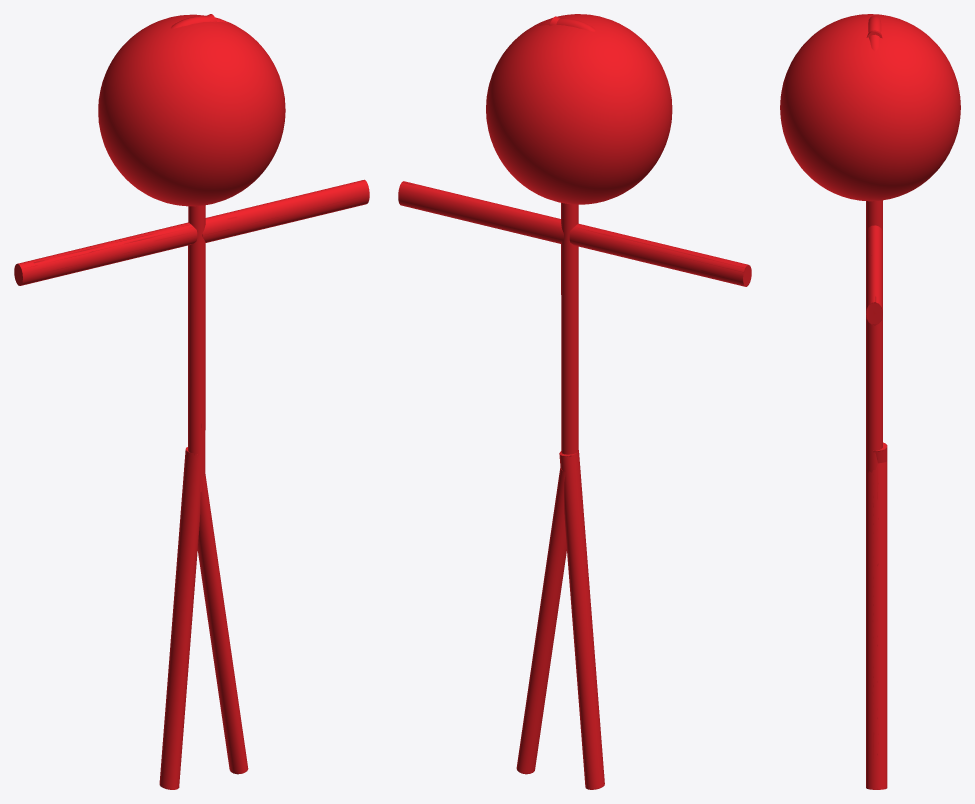
The model's file is humanoid.glb.
3 renders of one model, left to right at view 1: azimuth 30°, elevation 25°; view 2: azimuth 150°, elevation 25°; view 3: azimuth 270°, elevation 25°, orthographic. The views are drawn at different scales.
Visible parts, largest first — view 1: mesh_id50, node_id14, node_id17, node_id8, node_id11, node_id5; view 2: mesh_id50, node_id14, node_id17, node_id8, node_id11, node_id5; view 3: mesh_id50, node_id17, node_id8, node_id5, node_id20.
Part boxes in pixels (left/top/right/bottom): mesh_id50: left=98, top=14, right=285, bottom=206; node_id14: left=159, top=447, right=200, bottom=789; node_id17: left=197, top=470, right=248, bottom=774; node_id8: left=188, top=205, right=205, bottom=491; node_id11: left=14, top=222, right=197, bottom=285; node_id5: left=202, top=179, right=369, bottom=242; mesh_id50: left=486, top=14, right=672, bottom=204; node_id14: left=559, top=450, right=604, bottom=789; node_id17: left=516, top=467, right=566, bottom=774; node_id8: left=561, top=203, right=578, bottom=454; node_id11: left=569, top=223, right=751, bottom=286; node_id5: left=398, top=181, right=563, bottom=243; mesh_id50: left=780, top=14, right=960, bottom=201; node_id17: left=866, top=461, right=887, bottom=789; node_id8: left=866, top=200, right=882, bottom=472; node_id5: left=866, top=225, right=882, bottom=325; node_id20: left=866, top=16, right=882, bottom=52.
Size of the model in its own units: 0.2428 by 0.5117 by 0.1125.
7 materials, 7 textured.
